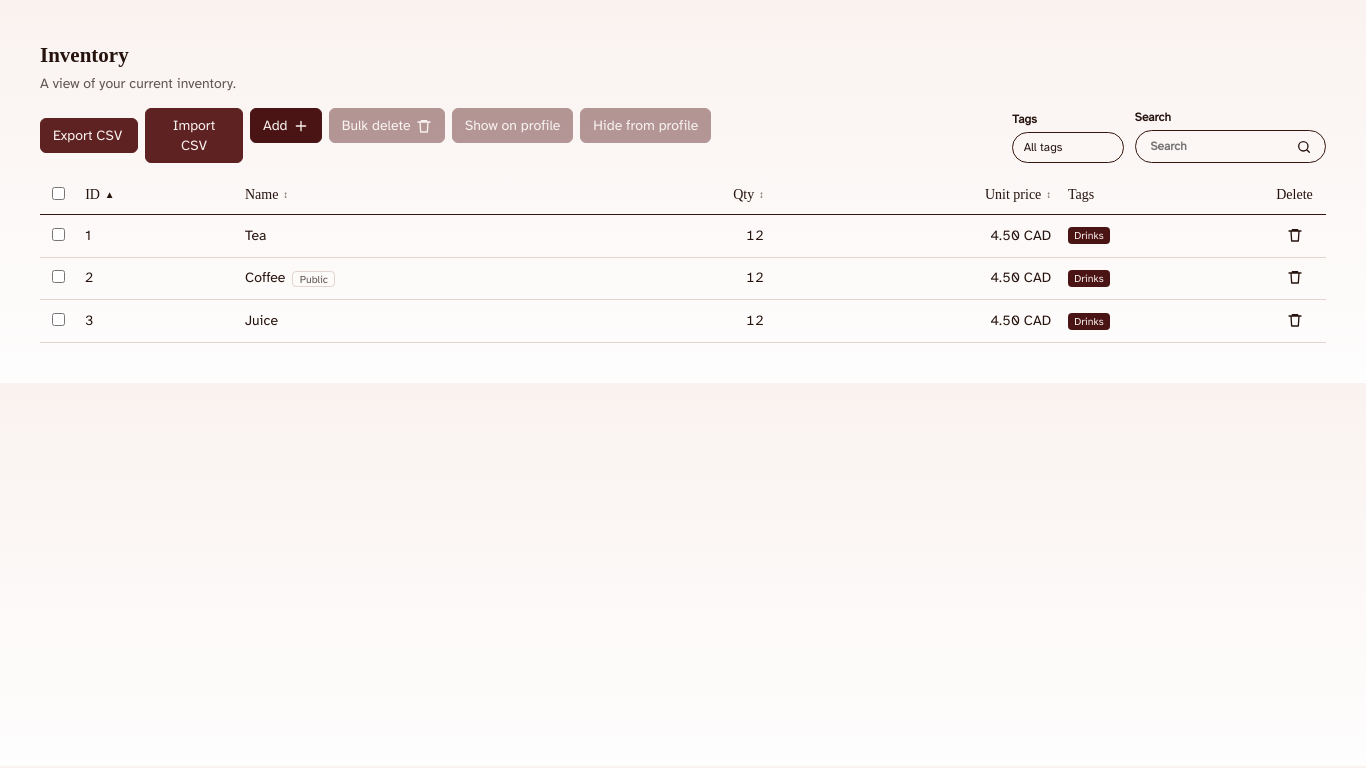
Test: InventoryPage › lists the items a mixed selection skips, and changes only the others
This screenshot has width=1366, height=768.
Expected: the text "Tea" is shown, [237,214,608,257]
Click the checkbox named "Select all items on this page" at [59, 194], box [52,187,65,200]
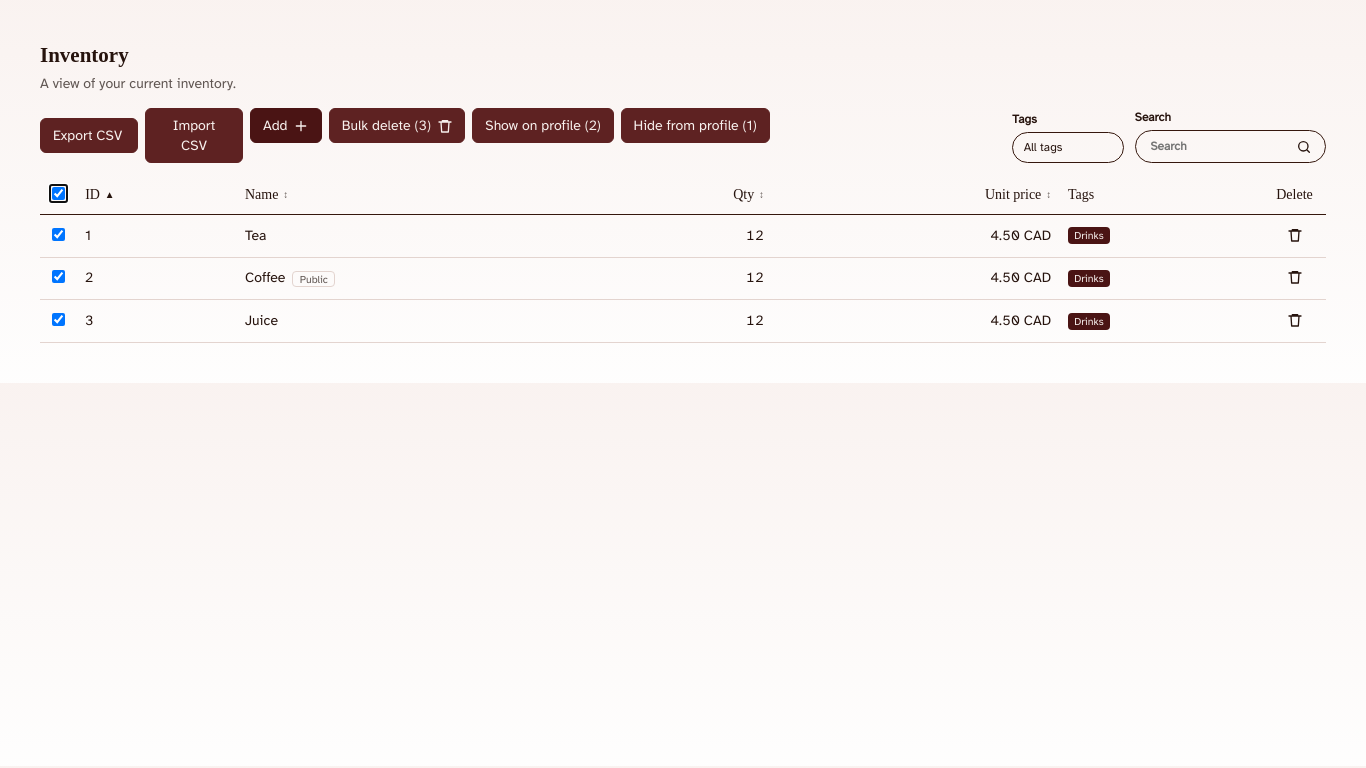
Expected: the button "Hide from profile (1)" is enabled, [621,108,770,143]
Click the button "Show on profile (2)" at [543, 126], box [472,108,614,143]
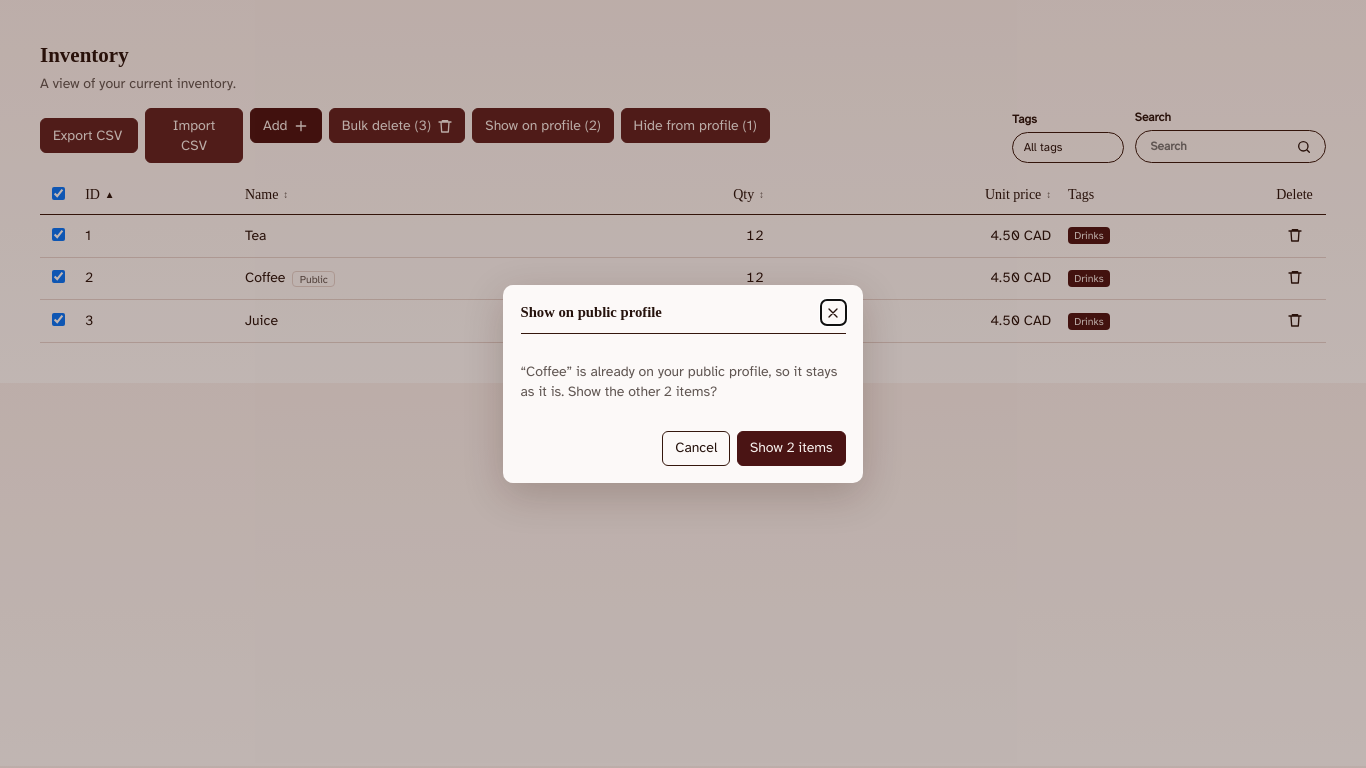
Expected: the dialog "Show on public profile" shows "“Coffee” is already on your public profile, so it stays as it is. Show the other 2 items?", [520,363,837,400]
Click the button "Show 2 items" at [791, 448], box [737,431,846,466]
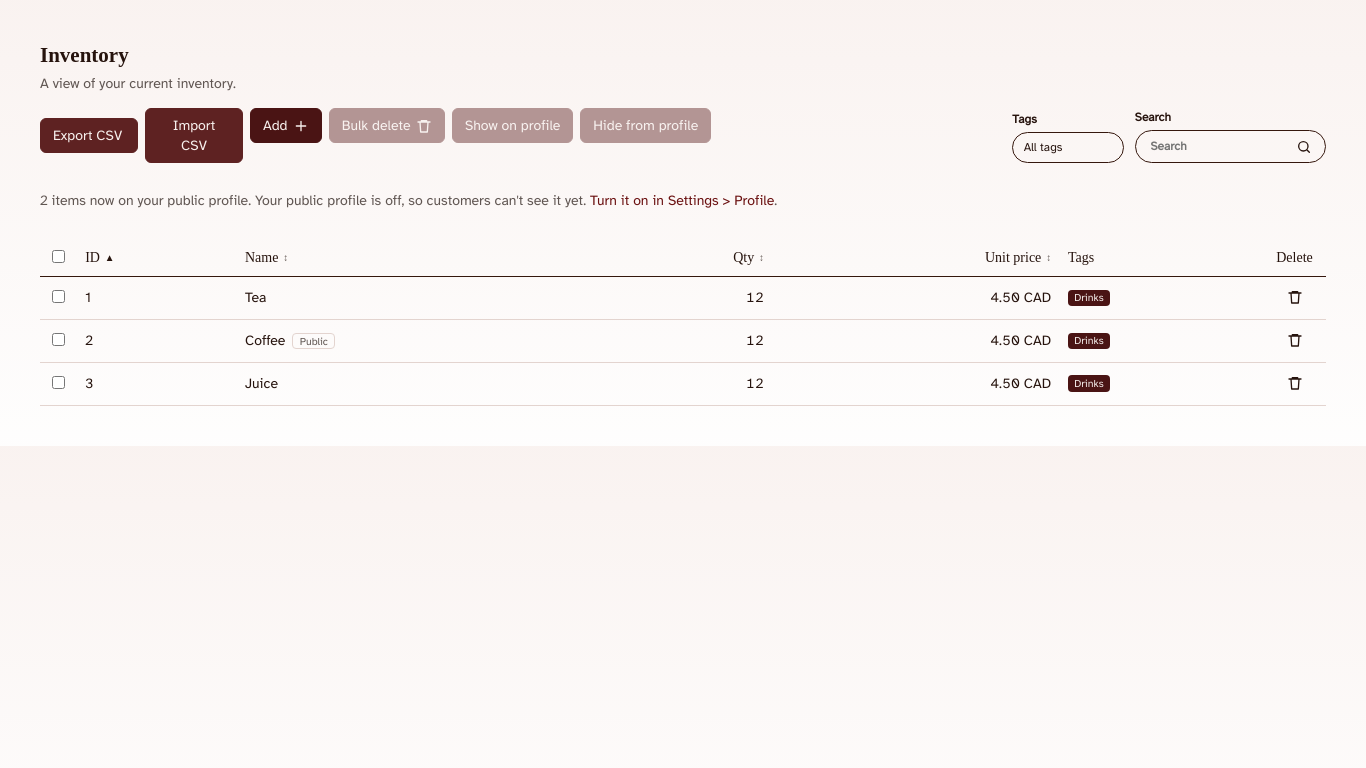
Expected: the message shows "2 items now on your public profile.", [40,192,251,209]
Expected: the dialog is gone
